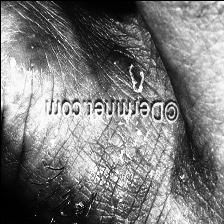Toxin: (125, 61, 148, 96)
